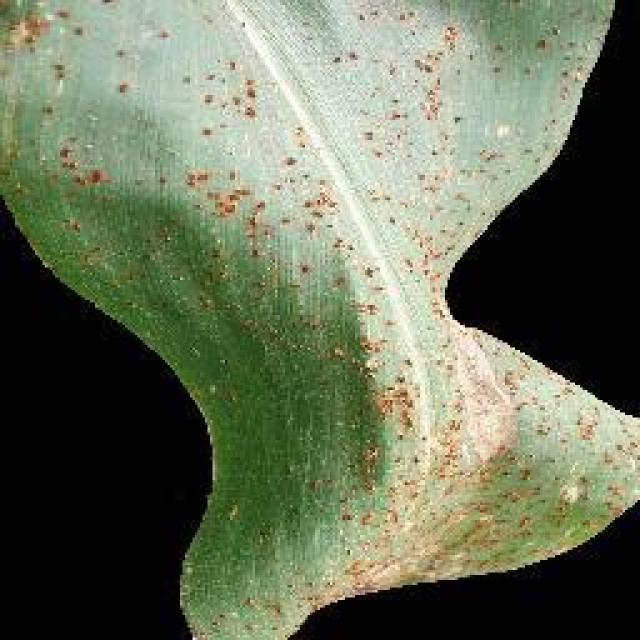Corn Common Rust: (133, 92, 580, 565)
